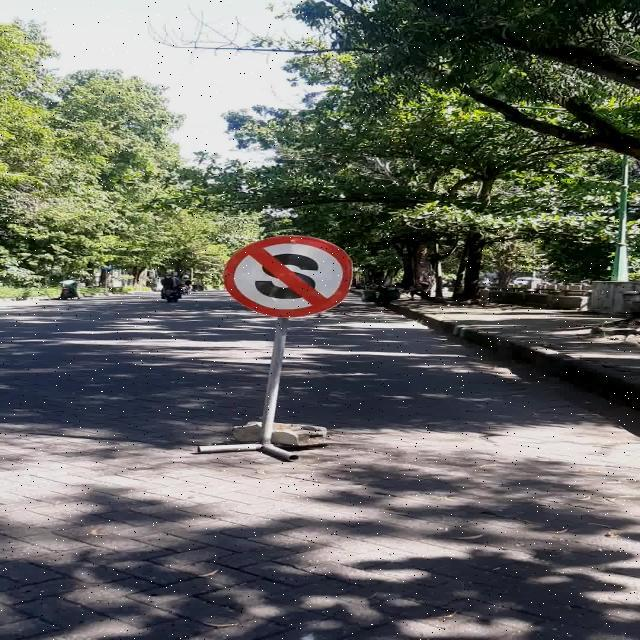Dilarang Berhenti: (224, 235, 353, 318)
